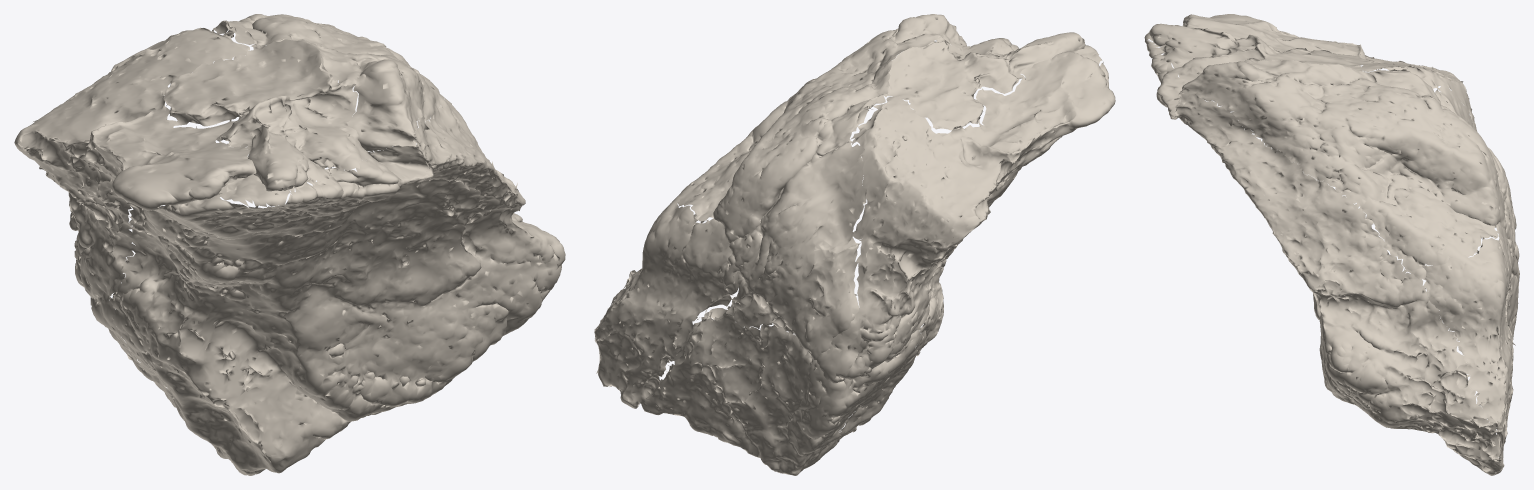
File: rock_17_cand01.glb
The picture shows the model from 3 angles, left to right: view 1: azimuth 30°, elevation 25°; view 2: azimuth 150°, elevation 25°; view 3: azimuth 270°, elevation 25°; orthographic projection. The views are drawn at different scales.
Parts seen in each view (by area): view 1: world; view 2: world; view 3: world.
Part boxes in pixels (<box>): world: <box>14,14,565,475</box>; world: <box>594,14,1115,475</box>; world: <box>1144,14,1519,475</box>.
Size of the model in its own units: 1.59 by 1.47 by 1.34.
